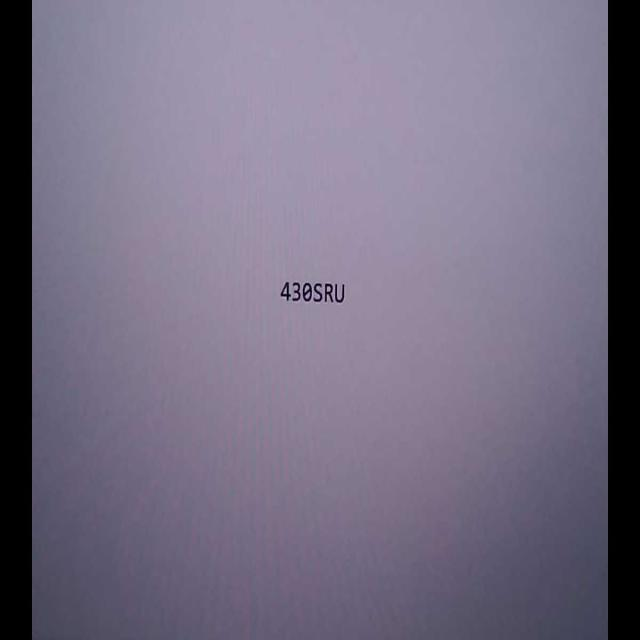license_plate: (276, 267, 354, 325)
